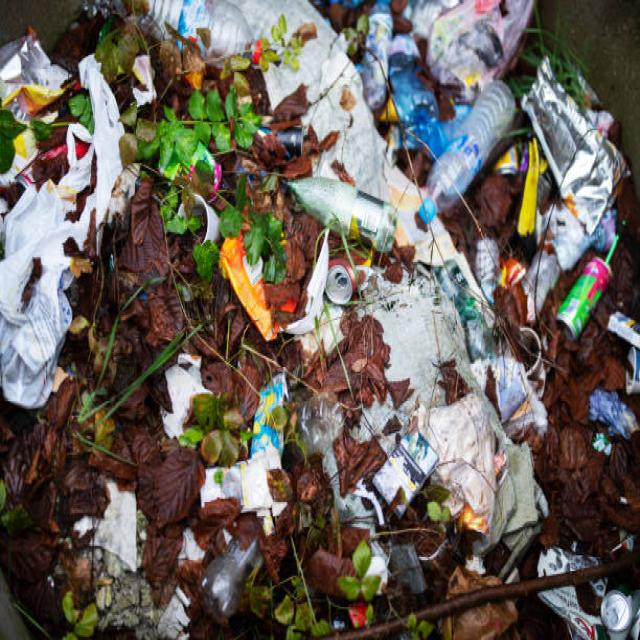metal: (562, 256, 616, 345)
plastic: (372, 287, 549, 551), (420, 72, 514, 223), (286, 179, 413, 245), (209, 549, 255, 607)
